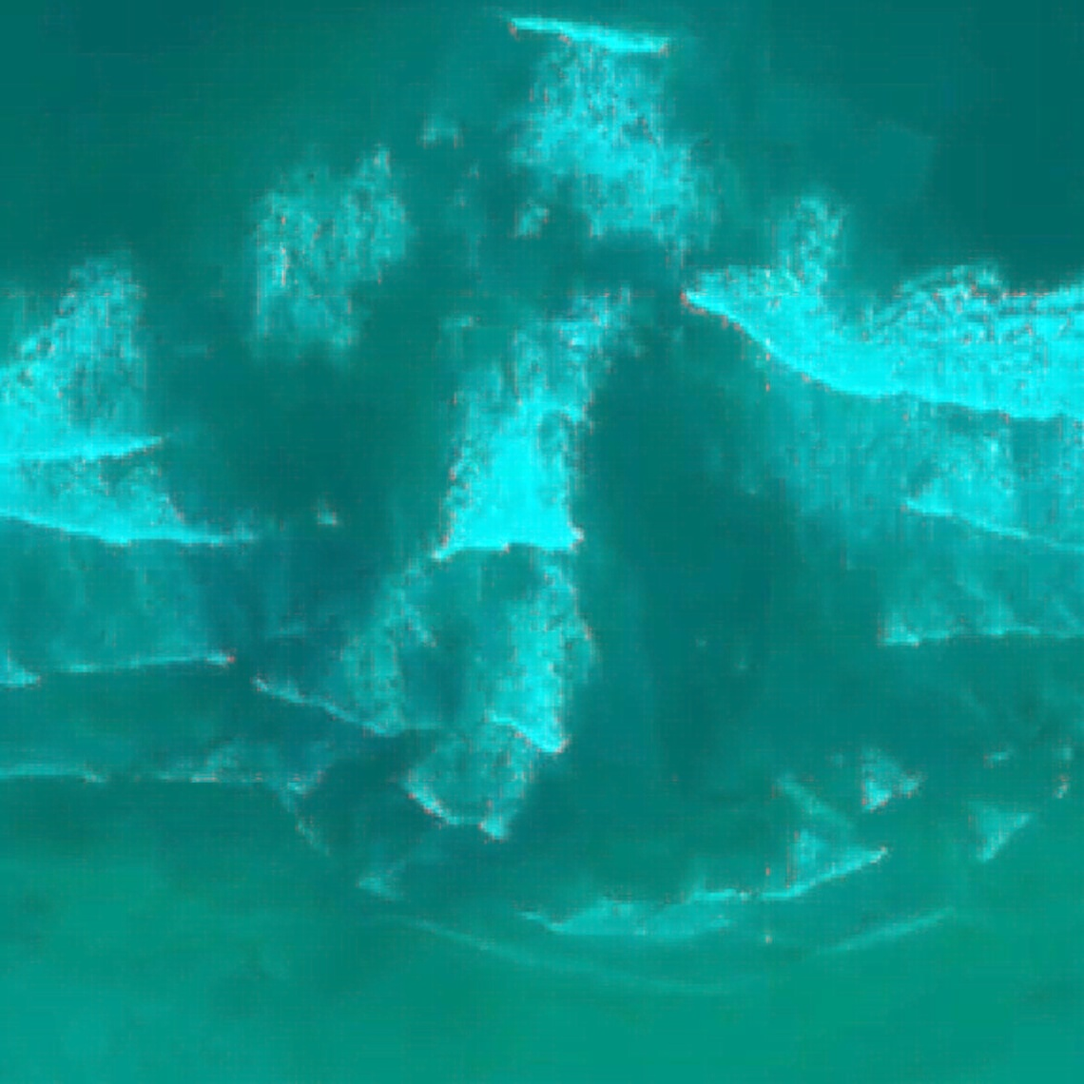rip_current: (555, 176, 920, 850)
